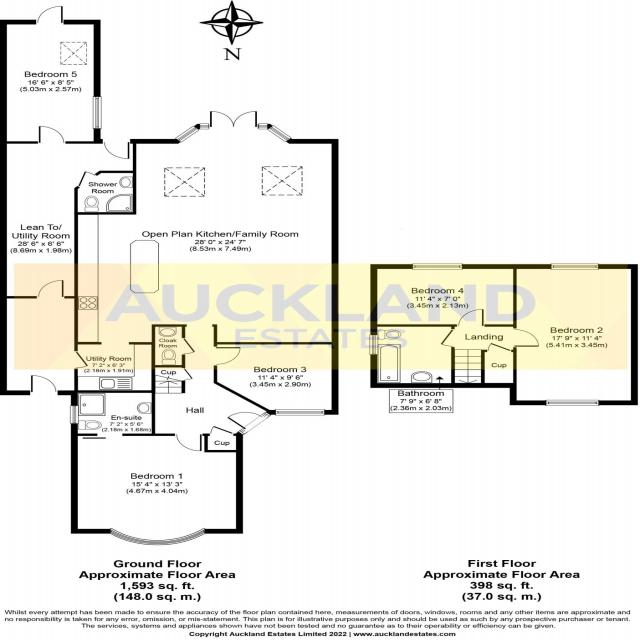DOOR: (226, 411, 272, 435), (29, 374, 59, 395), (101, 139, 131, 159), (512, 328, 540, 348), (213, 346, 241, 366), (36, 280, 65, 299), (35, 6, 64, 25), (174, 433, 203, 451), (457, 309, 485, 327), (77, 171, 98, 188), (73, 351, 90, 369), (440, 329, 455, 348)
DOUBLE DOOR: (209, 108, 259, 128)
ROOM: (74, 111, 339, 393), (70, 433, 243, 545), (510, 263, 638, 406), (0, 6, 102, 144), (370, 263, 517, 327), (213, 342, 339, 416)
WINDOW: (109, 527, 206, 546), (37, 126, 66, 144), (174, 125, 200, 143), (267, 125, 293, 143), (545, 399, 599, 406), (275, 409, 326, 416), (550, 263, 599, 270), (92, 96, 102, 129), (412, 264, 463, 270), (69, 405, 79, 424), (369, 335, 378, 355), (199, 123, 209, 130), (258, 123, 268, 130)
